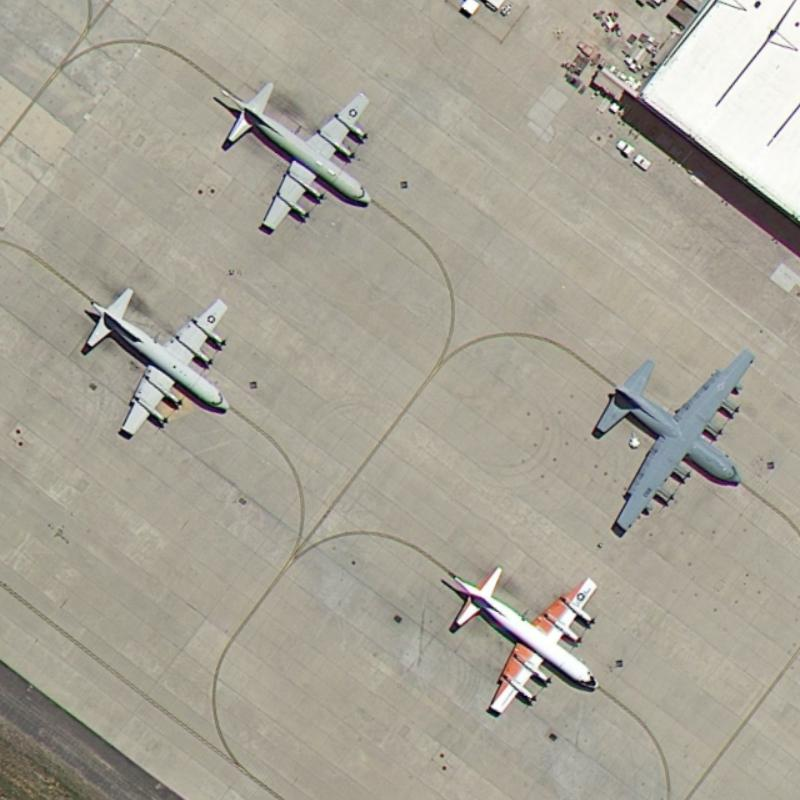A2: (579, 343, 756, 538)
A9: (207, 71, 383, 233), (433, 558, 606, 721), (73, 289, 239, 441)
